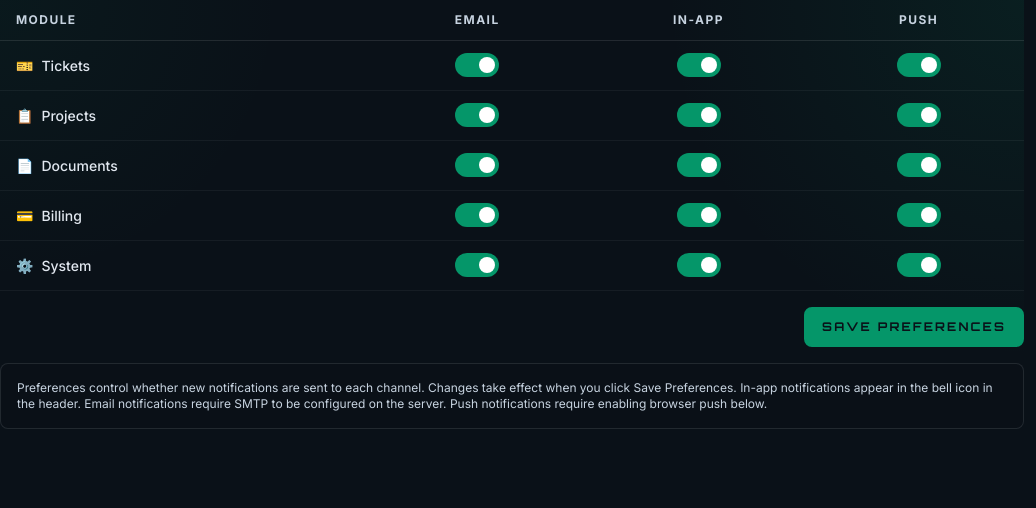
Test: NotificationPreferencesClient › surfaces a save failure instead of swallowing it
The width and height of the screenshot is (1036, 508).
Step 1. Click the button "Save Preferences" → (914, 327), box [804,307,1024,347]
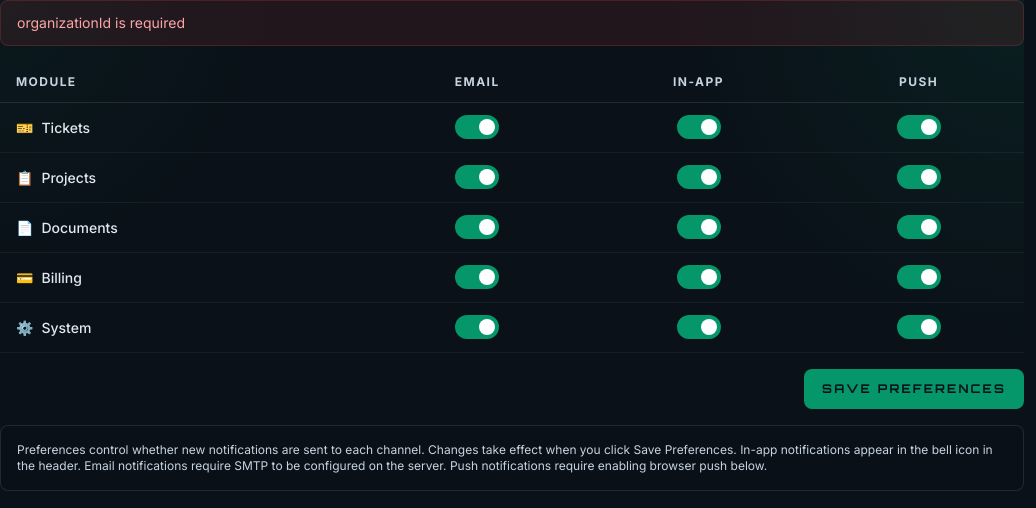
Now the message reads "organizationId is required", box [17,14,185,31]
